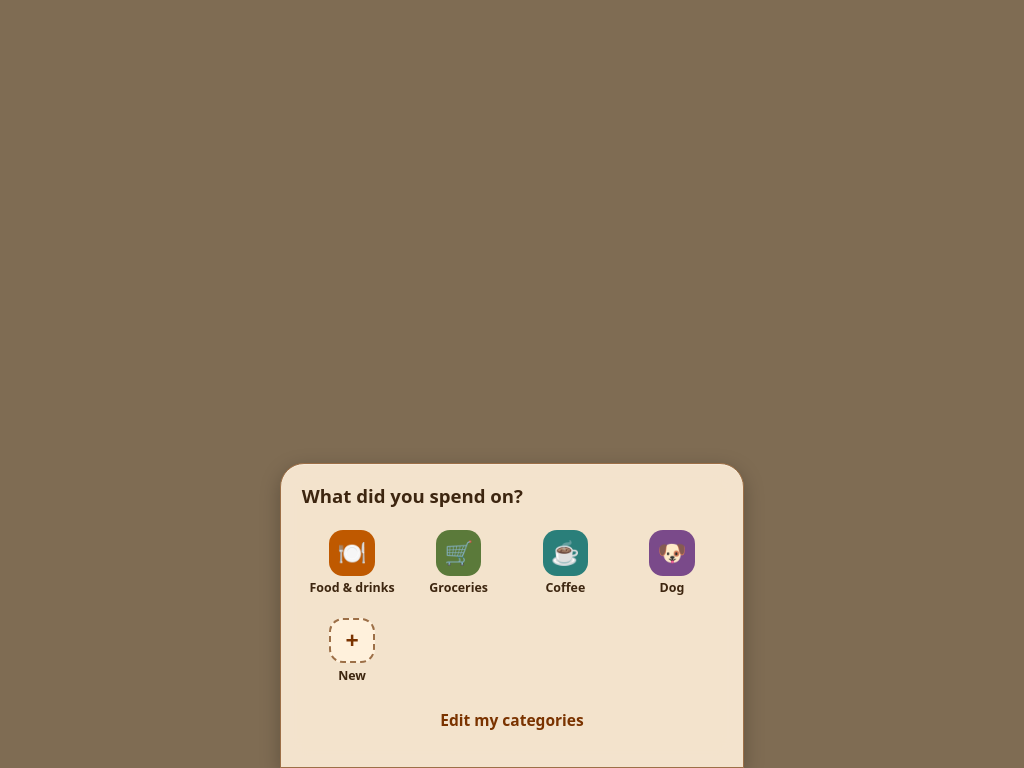
Test case: PersonalSpendingSheet, adding › the first stage › goes on to the amount with the new category right after "+ New" is saved
The width and height of the screenshot is (1024, 768).
Click the button "+ New" at x=352, y=650, box [302, 612, 402, 689]
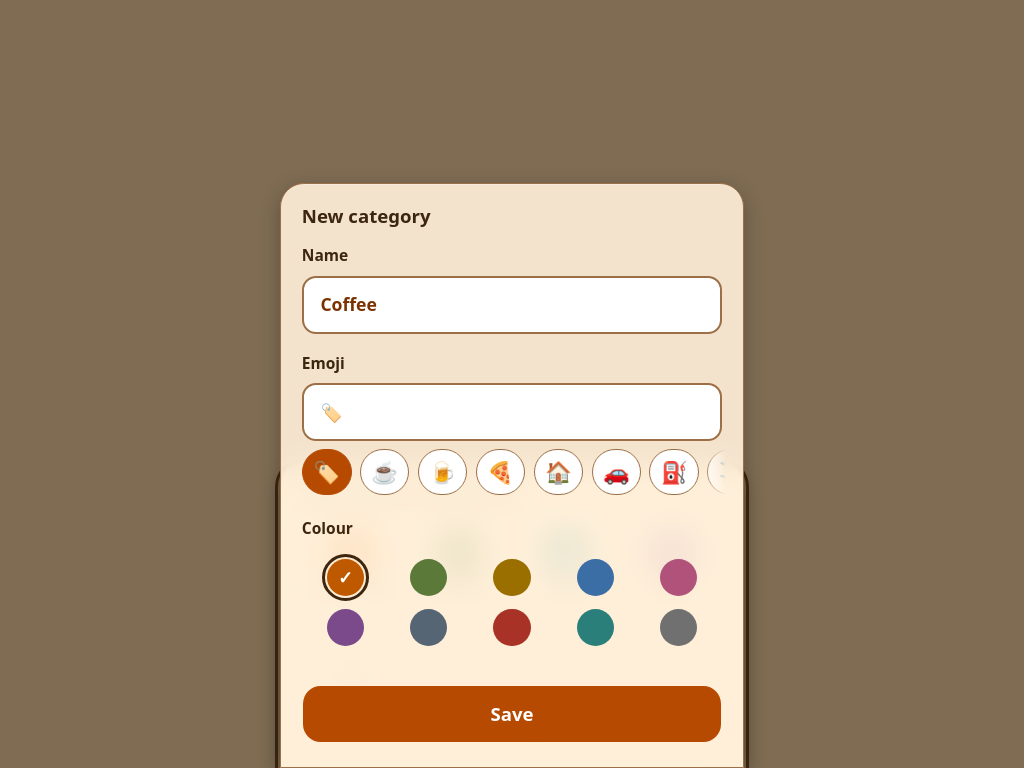
Type "Tea" into the field labelled "Name" at x=512, y=305, box [302, 276, 722, 334]
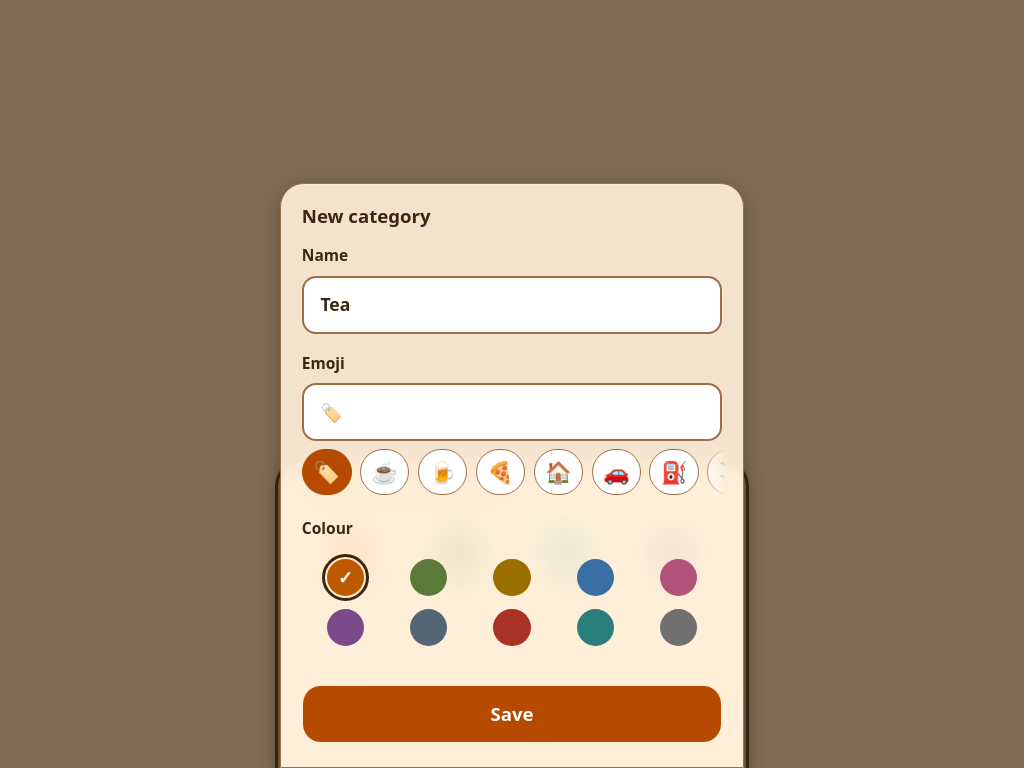
Click the button "Save" at x=512, y=714, box [302, 685, 722, 743]
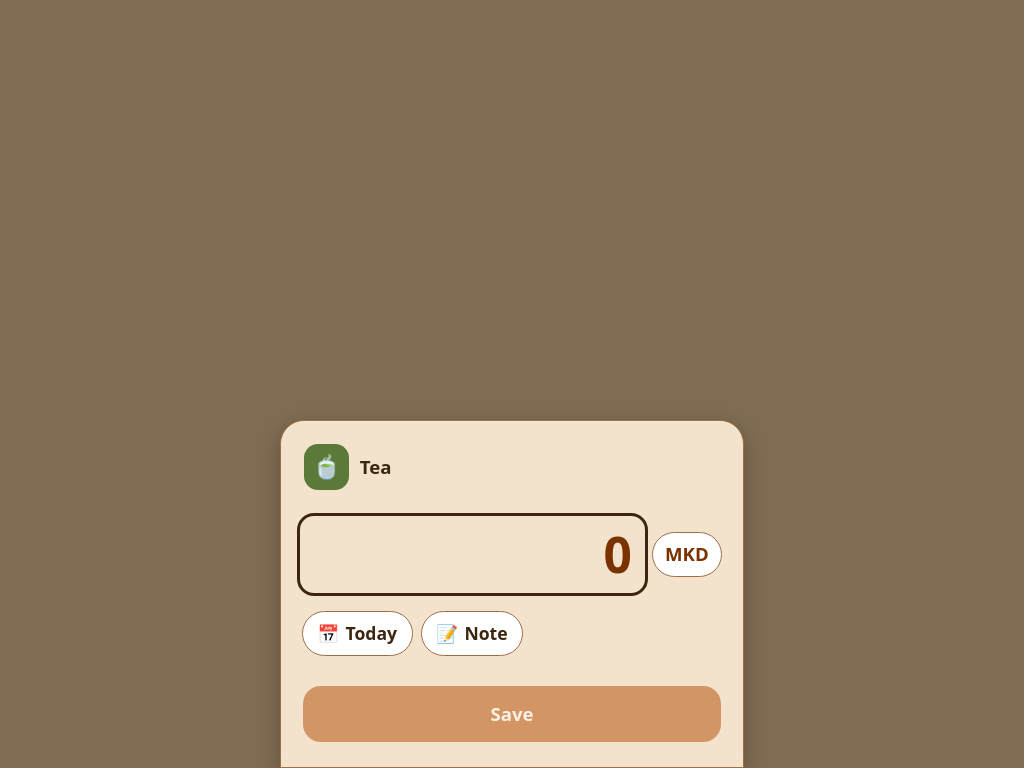
Now the dialog "Tea" is shown, box [280, 420, 744, 767]
Now the field named "Amount" is shown, box [300, 516, 646, 592]
